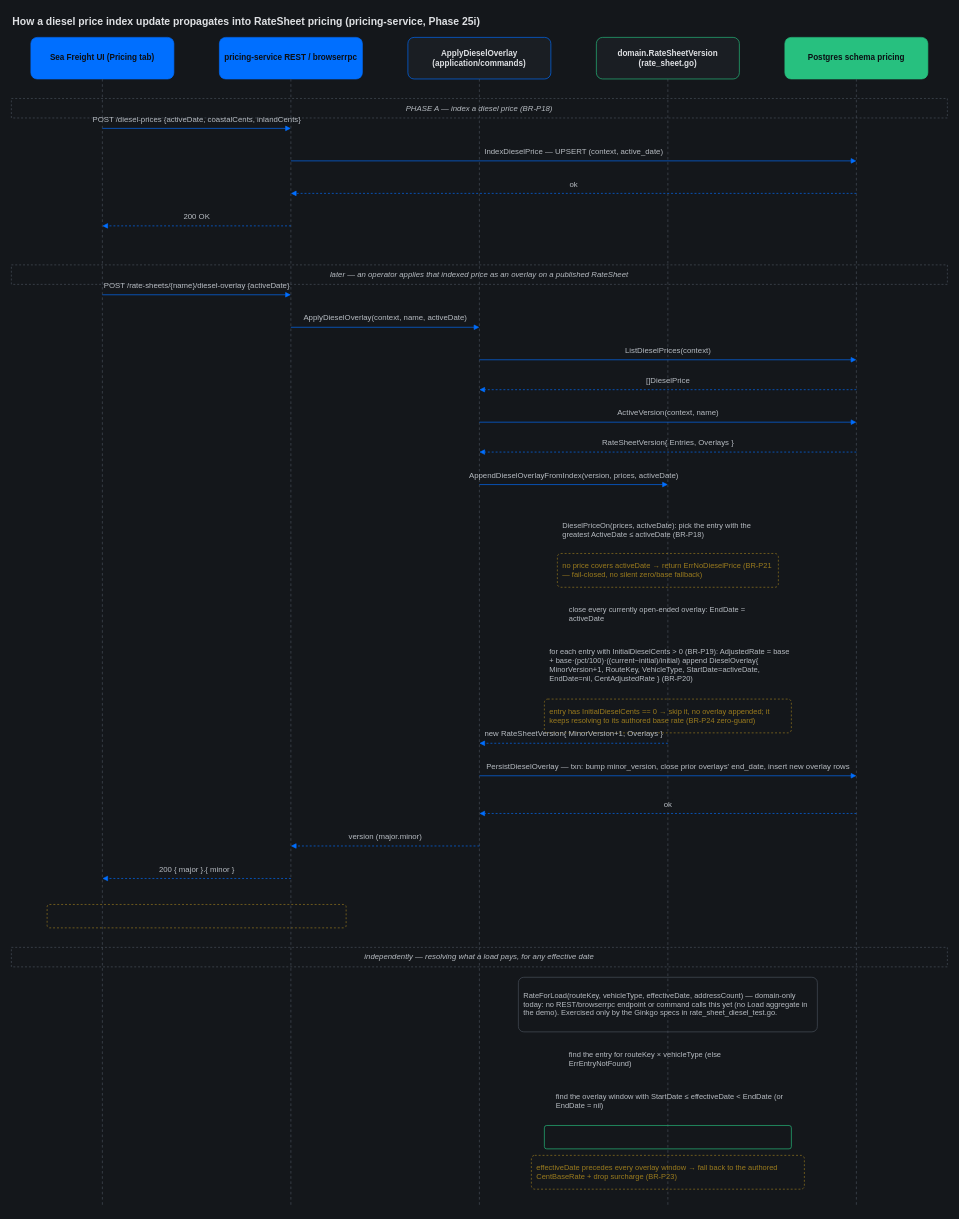
Some shapes in this 959 by 1219 pixel diagram are drawn without their labels. Here are the shapes that lost their labels. From the top down, the box of each, then its label:
(46, 904, 346, 928): no diesel price indexed on/before activeDate → 404 (ErrNoDieselPrice)
(544, 1125, 791, 1149): window found → adjusted rate + drop surcharge (BR-P22)
